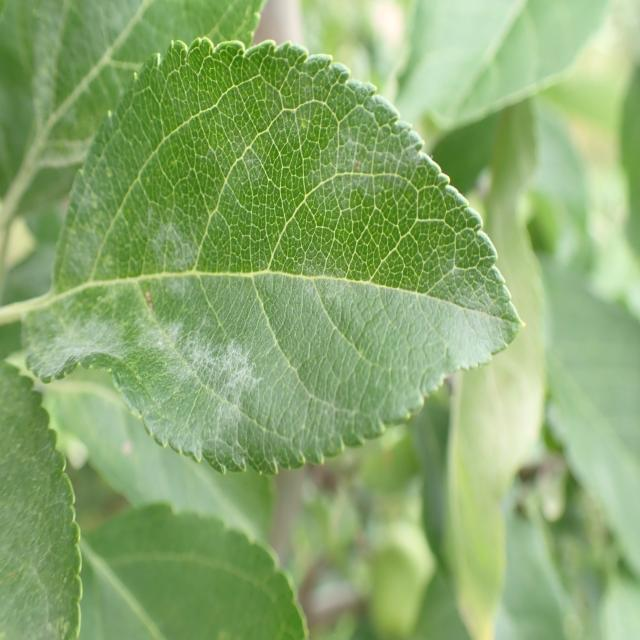Powdery_mildew: (52, 49, 482, 450)
